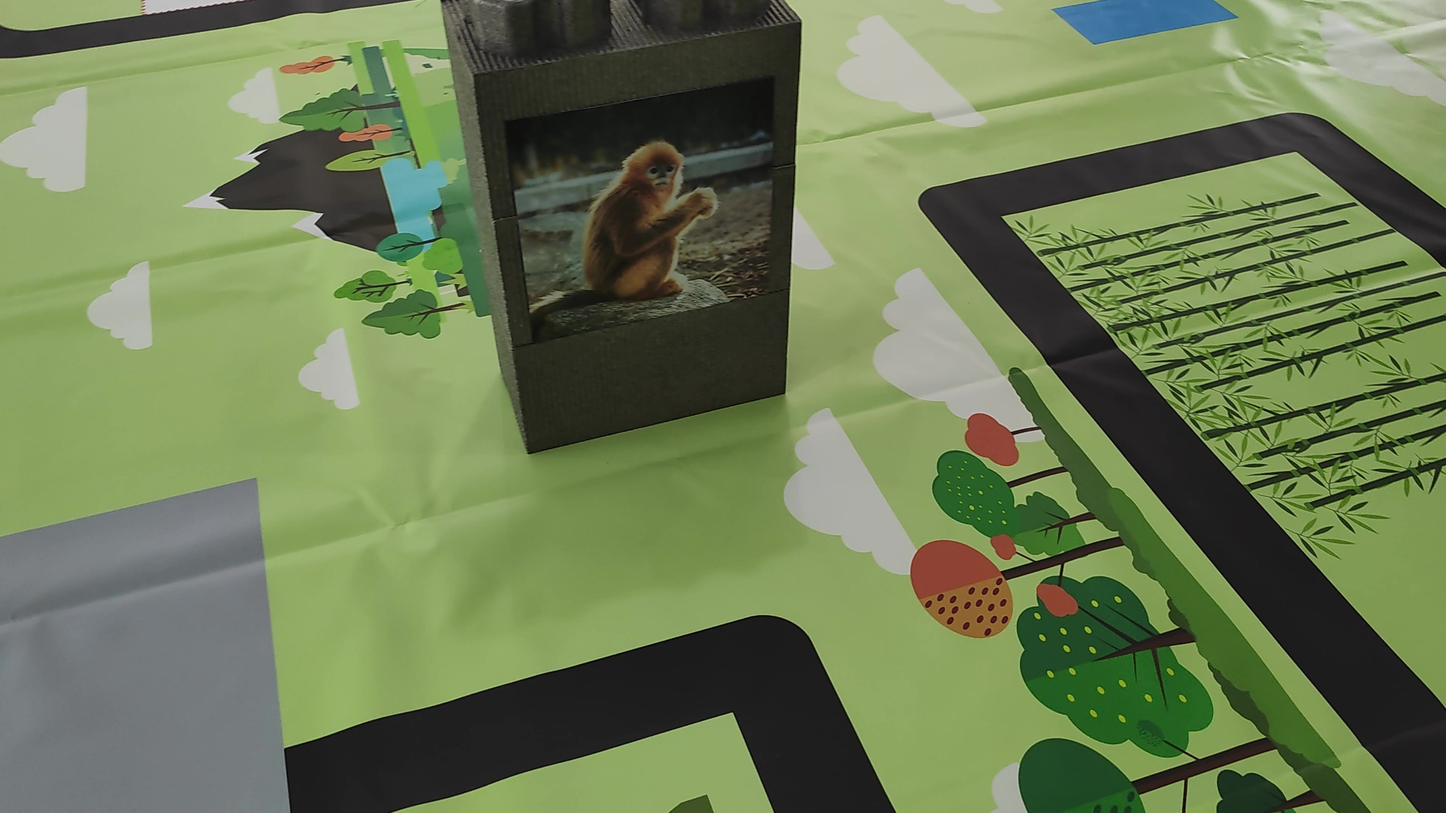monkey: (511, 136, 738, 334)
